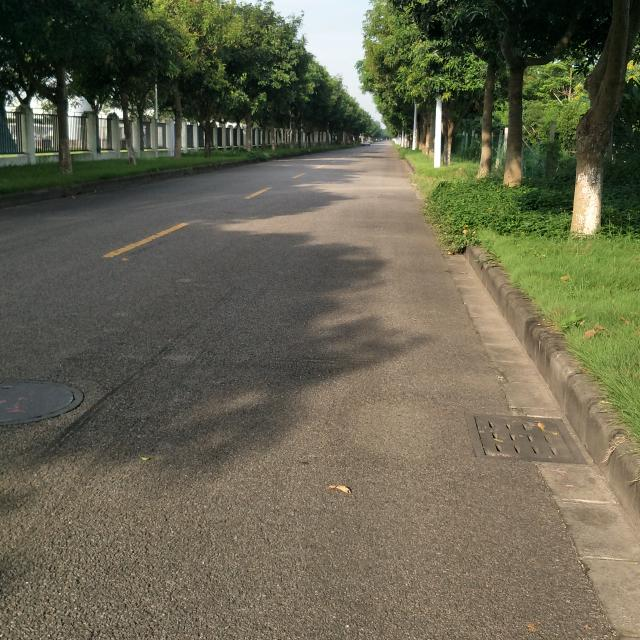curb: (466, 247, 639, 526), (0, 151, 322, 207)
